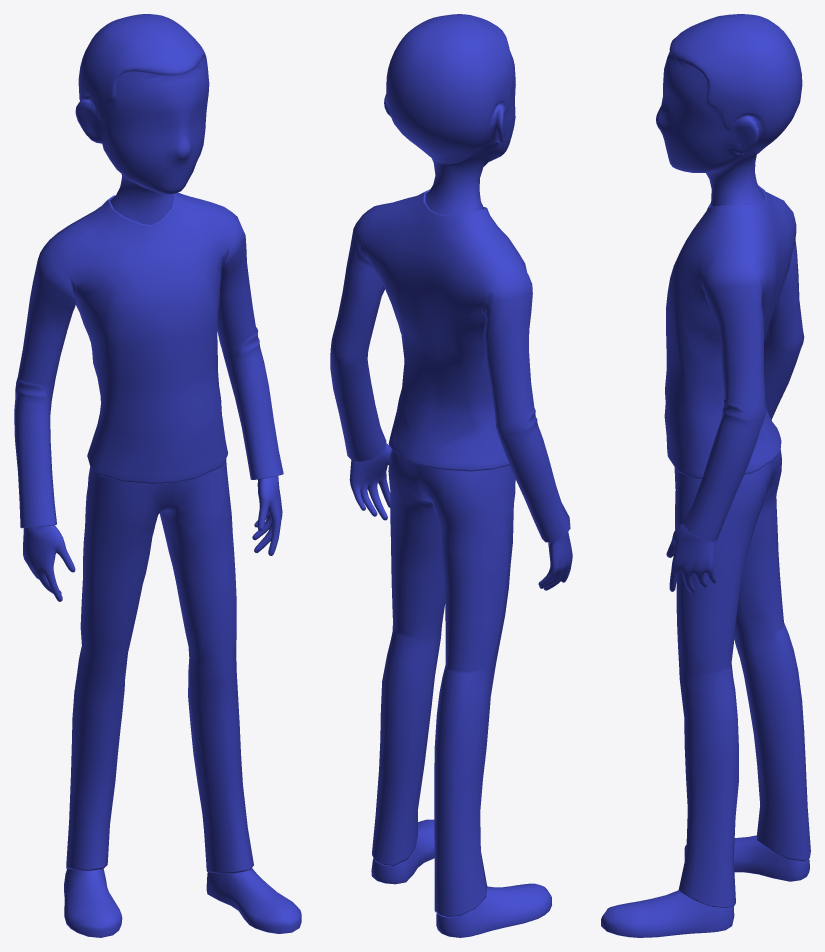
The model's file is Hombre.fbx.
The picture shows the model from 3 angles, left to right: view 1: azimuth 30°, elevation 25°; view 2: azimuth 150°, elevation 25°; view 3: azimuth 270°, elevation 25°; orthographic projection.
Visible parts, largest first — view 1: root; view 2: root; view 3: root.
Part boxes in pixels (x1,y1,x2,y2): root: (14,14,301,937); root: (330,14,572,937); root: (601,14,810,937).
Size of the model in its own units: 0.1356 by 0.4789 by 0.1049.
